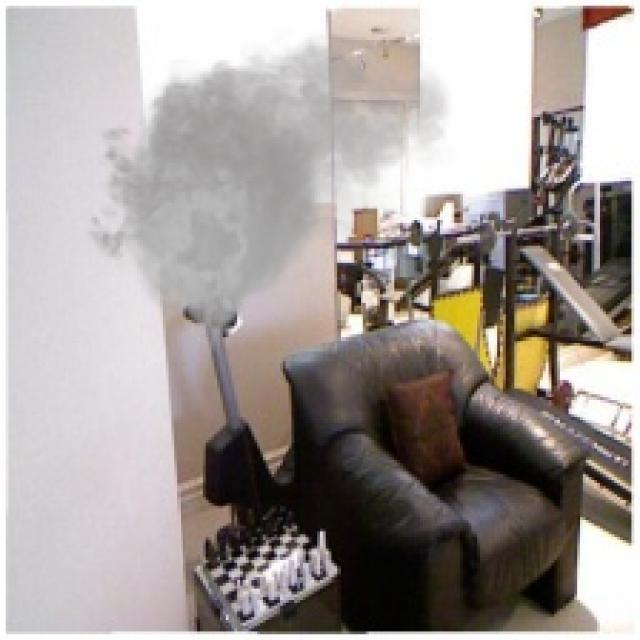Smoke: (74, 23, 457, 383)
